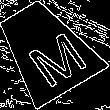M_NW: (10, 16, 82, 83)
